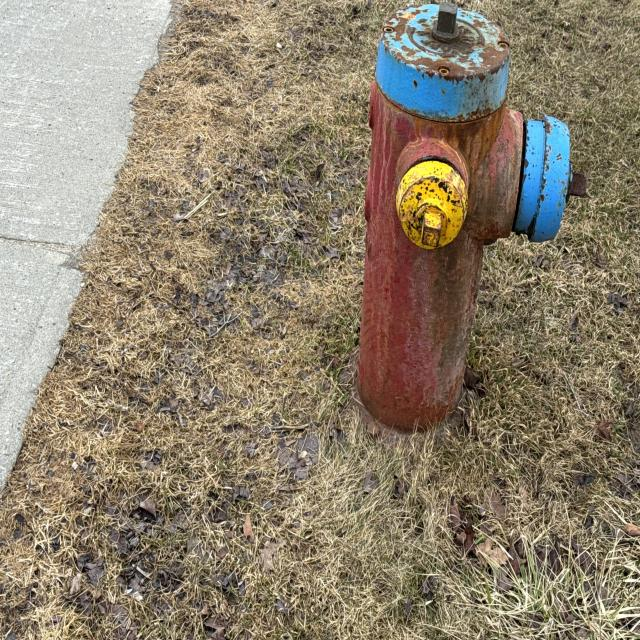Fire hydrant: (344, 0, 589, 454)
